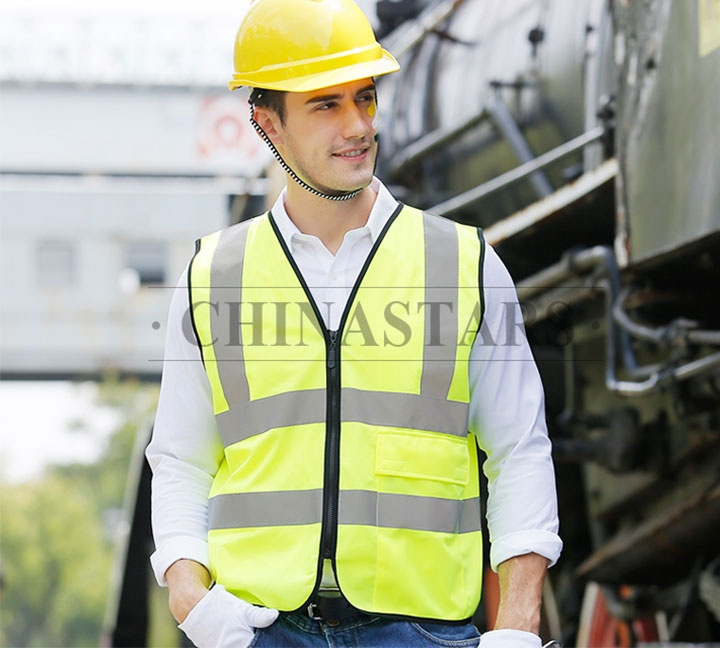helmet: (225, 1, 403, 96)
person with full safety: (161, 1, 553, 648)
safety vest: (185, 203, 487, 622)
